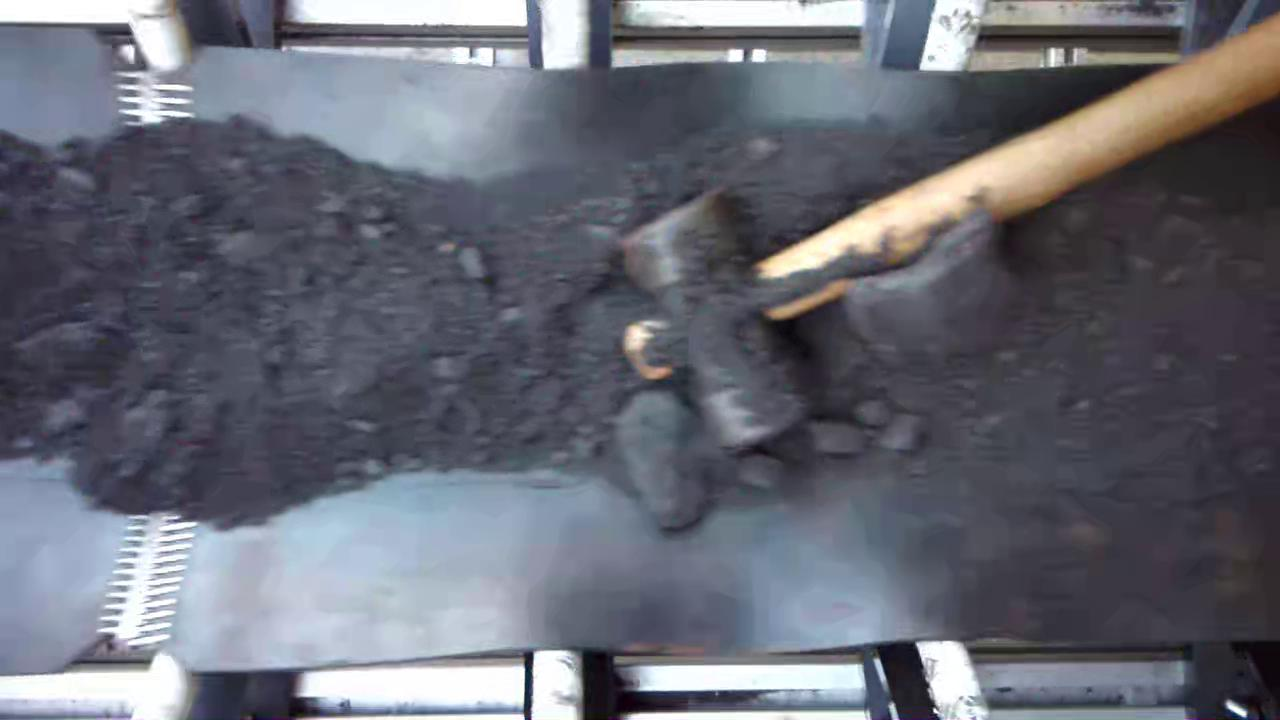conveyor: (5, 75, 1280, 636)
